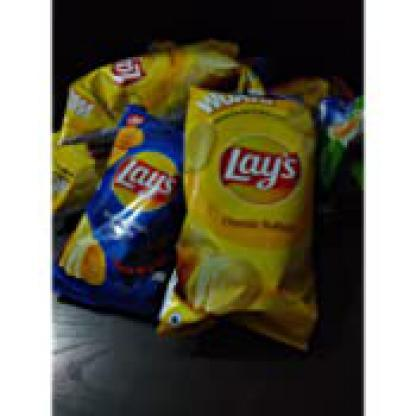indian_magic_masala: (62, 105, 183, 316)
